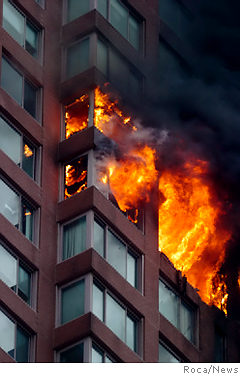fire: (161, 164, 230, 305), (109, 145, 157, 213), (95, 89, 126, 134), (65, 99, 89, 133), (63, 164, 87, 196)
smoke: (136, 77, 238, 142)
